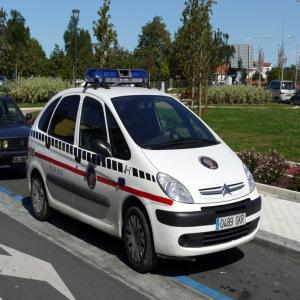Vehicle-registration-plate: (216, 214, 248, 233), (14, 158, 28, 165)
